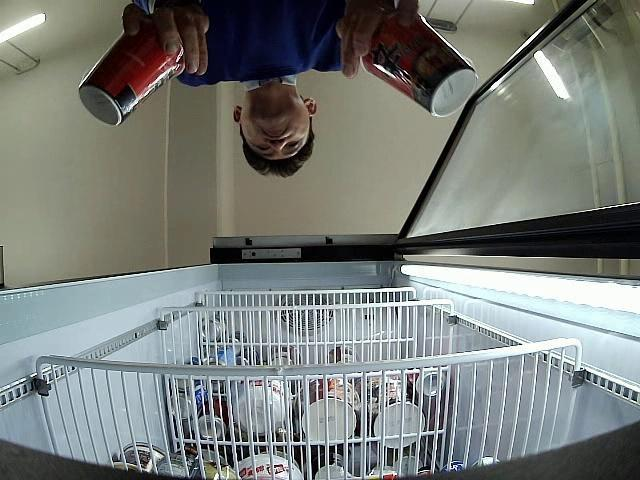02_shinRamen_S: (361, 4, 478, 118), (78, 15, 186, 126)
